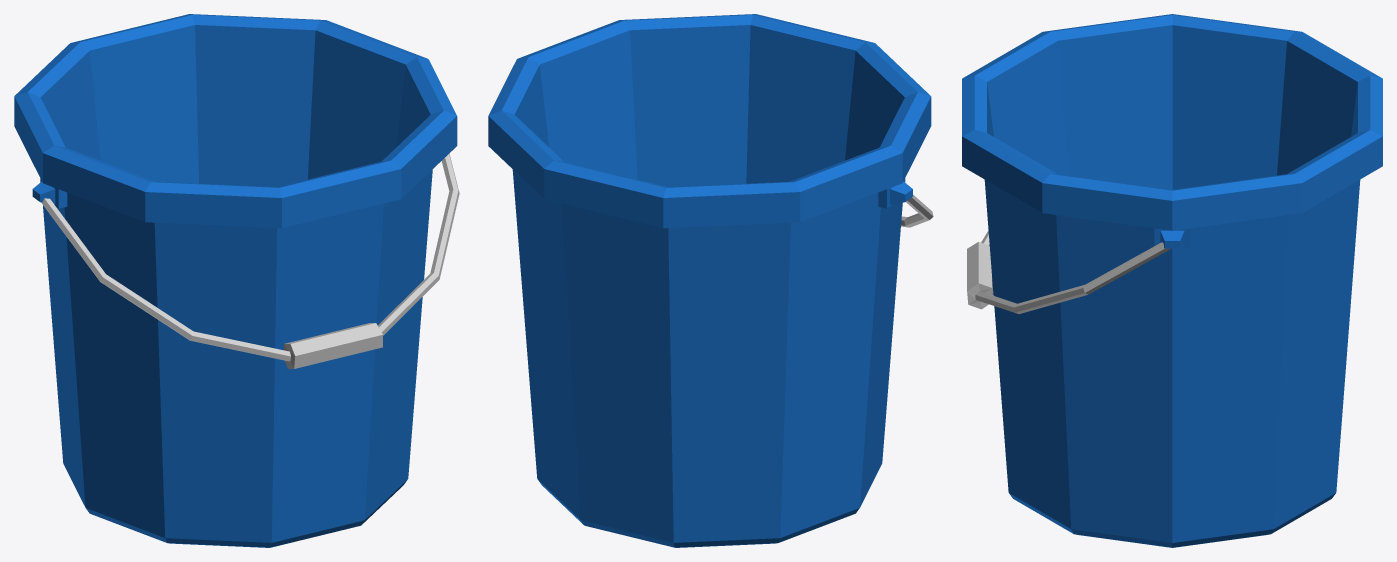
The model's file is space_bucket.fbx.
3 renders of one model, left to right at view 1: azimuth 30°, elevation 25°; view 2: azimuth 150°, elevation 25°; view 3: azimuth 270°, elevation 25°, orthographic.
Parts seen in each view (by area): view 1: Cylinder_73; view 2: Cylinder_73; view 3: Cylinder_73.
Boxes of the visible parts, x1=… form: Cylinder_73: x1=14, y1=14, x2=459, y2=547; Cylinder_73: x1=488, y1=14, x2=933, y2=547; Cylinder_73: x1=962, y1=14, x2=1382, y2=547.
Bounding box in the file's own units: 29.9 × 27.22 × 27.47.
